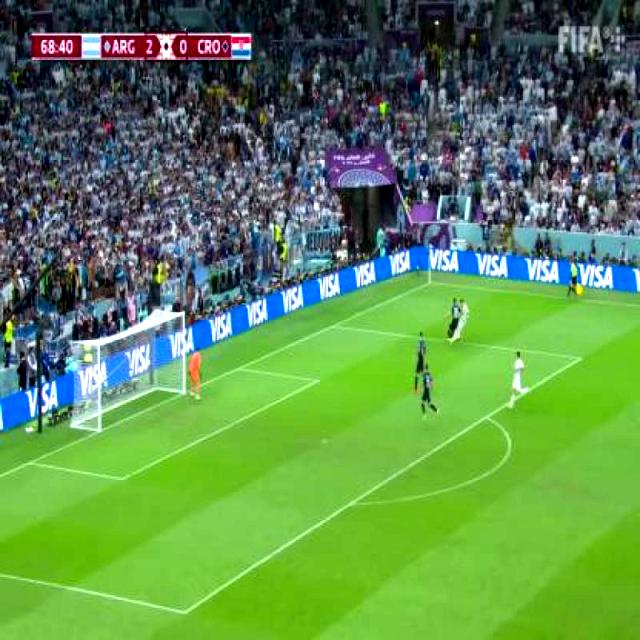bigarea_bottom_inner: (175, 600, 195, 625)
bigarea_top_inner: (572, 349, 590, 371)
bigarea_top_outter: (330, 318, 340, 334)
bottom_arc_area_intersection: (342, 492, 363, 514)
corner: (424, 278, 438, 288)
smallarea_bottom_inner: (112, 468, 134, 490)
smallarea_bottom_outter: (23, 455, 37, 470)
smallarea_top_inner: (310, 372, 328, 390)
smallarea_top_outter: (234, 360, 246, 377)
top_arc_area_intersection: (480, 406, 495, 428)
